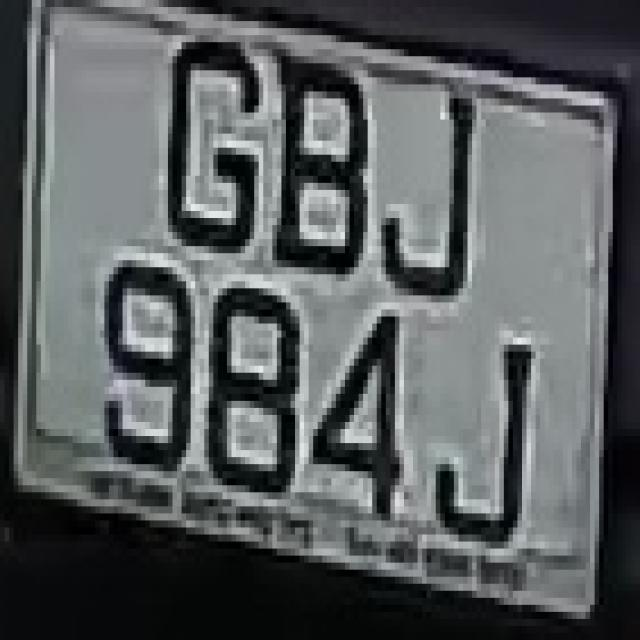4: (295, 274, 427, 556)
8: (195, 267, 309, 535)
9: (104, 225, 190, 478)
B: (268, 42, 377, 302)
G: (154, 21, 259, 281)
J: (368, 56, 486, 310), (436, 316, 544, 548)
